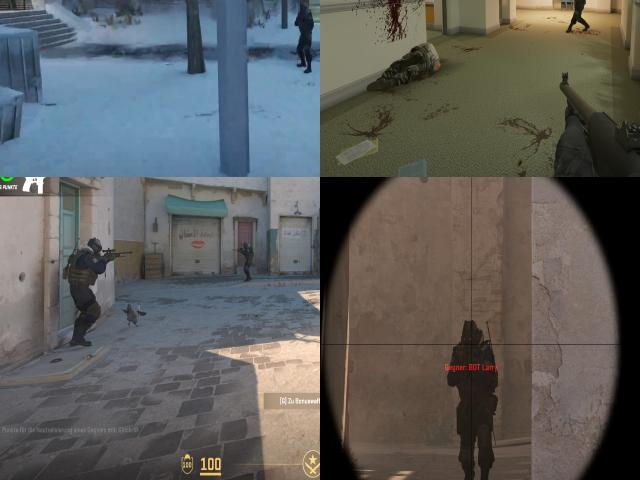CT: (453, 318, 492, 480), (73, 238, 102, 346), (295, 0, 315, 43), (568, 0, 589, 34), (240, 240, 254, 283)
CT-Head: (461, 322, 479, 346), (89, 238, 101, 255), (298, 3, 308, 18), (242, 242, 248, 248)
Dead: (376, 36, 444, 101)
